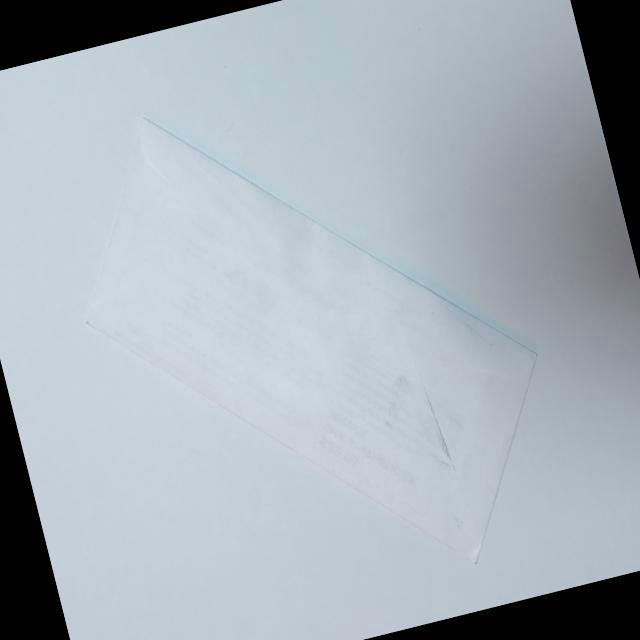paper: (36, 32, 580, 640)
